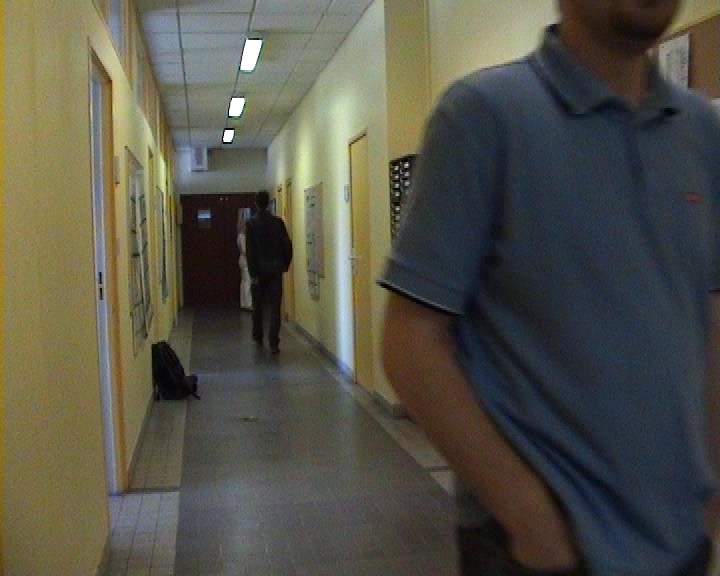leave bag unattended: (126, 311, 240, 454)
